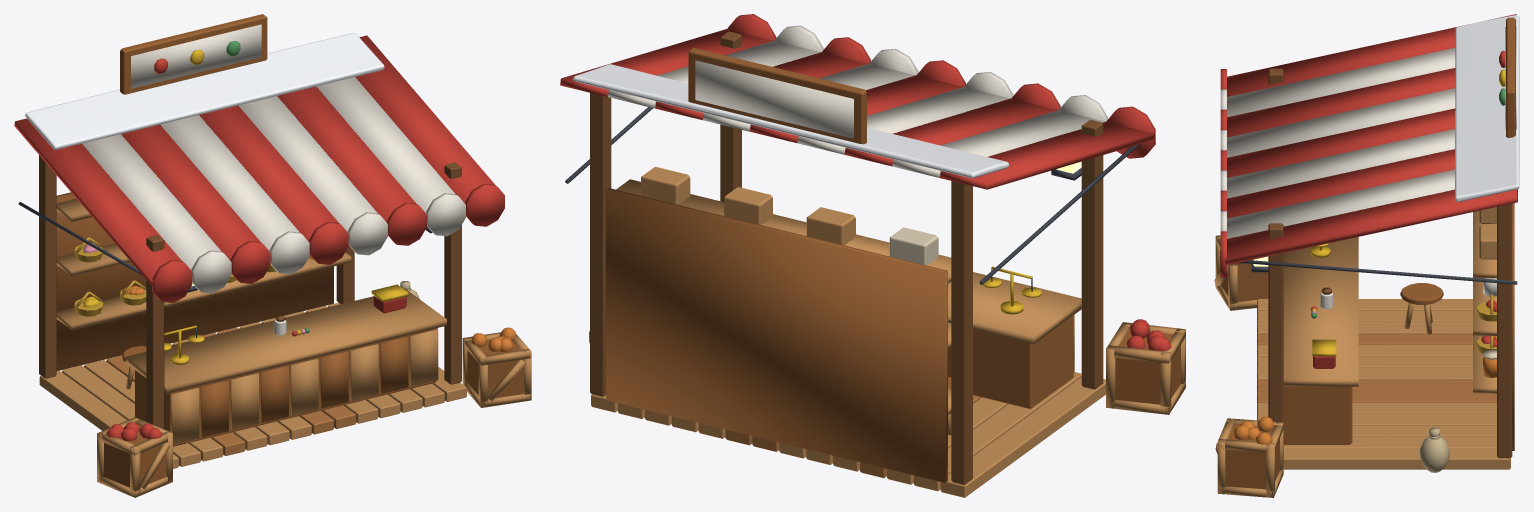
Rendered from market.glb.
3 views of the same model, side by side, from view 1: azimuth 30°, elevation 25°; view 2: azimuth 150°, elevation 25°; view 3: azimuth 270°, elevation 25° (orthographic). The views are drawn at different scales.
Parts seen in each view (by area): view 1: roof, interior, exterior, floor; view 2: exterior, roof, interior, floor; view 3: roof, floor, interior, exterior.
Boxes of the visible parts, left/top/right/bottom form: roof: left=14, top=14, right=504, bottom=302; interior: left=97, top=281, right=531, bottom=497; exterior: left=39, top=155, right=461, bottom=428; floor: left=39, top=302, right=466, bottom=468; exterior: left=590, top=31, right=1103, bottom=485; roof: left=560, top=14, right=1155, bottom=284; interior: left=589, top=266, right=1185, bottom=435; floor: left=591, top=372, right=1105, bottom=497; roof: left=1220, top=14, right=1519, bottom=284; floor: left=1257, top=299, right=1510, bottom=469; interior: left=1214, top=235, right=1449, bottom=497; exterior: left=1268, top=68, right=1514, bottom=458.
Bounding box in the file's own units: 4.04 × 2.92 × 2.4.
